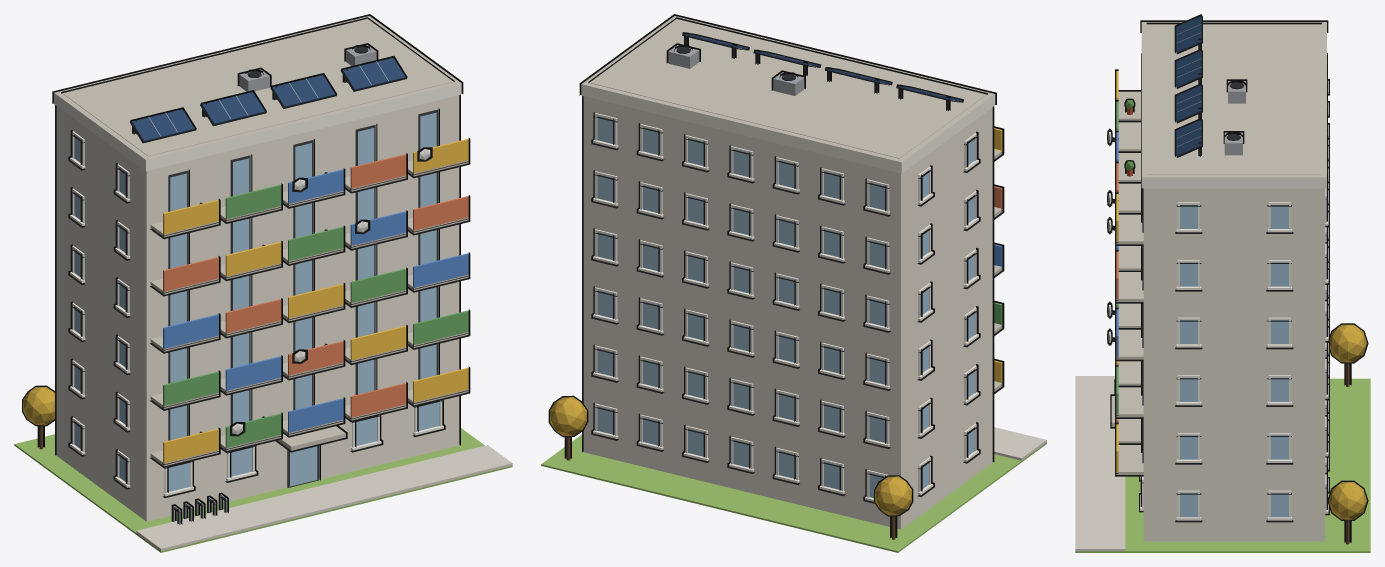
File: Konut_balkonlu_blok_3.fbx
3 views of the same model, side by side, from view 1: azimuth 30°, elevation 25°; view 2: azimuth 150°, elevation 25°; view 3: azimuth 270°, elevation 25° (orthographic).
Parts seen in each view (by area): view 1: Konut_balkonlu_blok_3; view 2: Konut_balkonlu_blok_3; view 3: Konut_balkonlu_blok_3.
Part boxes in pixels (x1,y1,x2,y2): Konut_balkonlu_blok_3: (14,14,512,552); Konut_balkonlu_blok_3: (541,14,1046,552); Konut_balkonlu_blok_3: (1075,14,1370,552).
Bounding box in the file's own units: 18.22 × 18.56 × 13.
